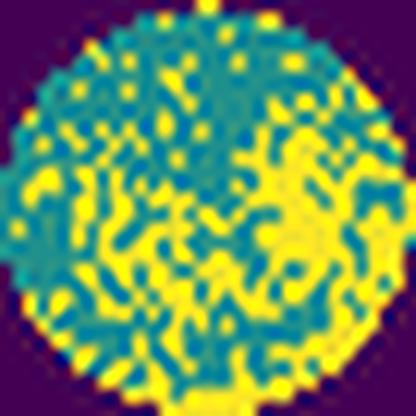Random: (0, 70, 416, 416)
